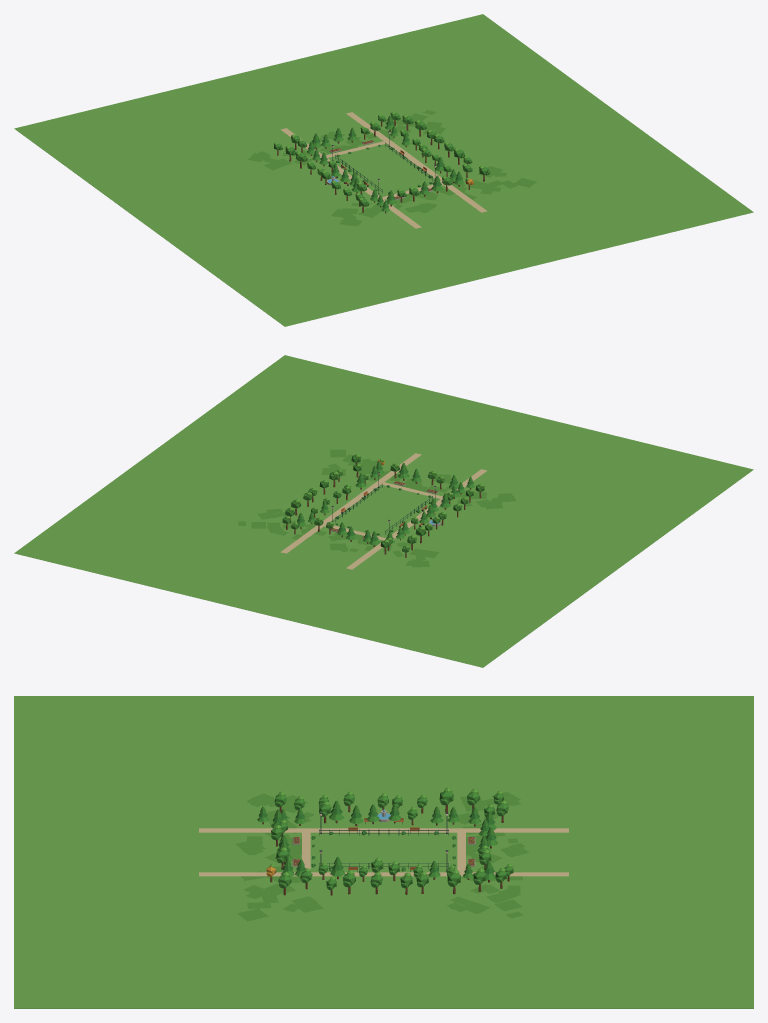
The model's file is park.glb.
3 renders of one model, top to bottom at view 1: azimuth 30°, elevation 25°; view 2: azimuth 150°, elevation 25°; view 3: azimuth 270°, elevation 25°, orthographic. The views are drawn at different scales.
Visible parts, largest first — view 1: park; view 2: park; view 3: park.
Part boxes in pixels (box(x1,y1,x2,y2)): park: box(14, 14, 753, 326); park: box(14, 355, 753, 667); park: box(14, 696, 753, 1008).
Size of the model in its own units: 120 by 4.28 by 120.
